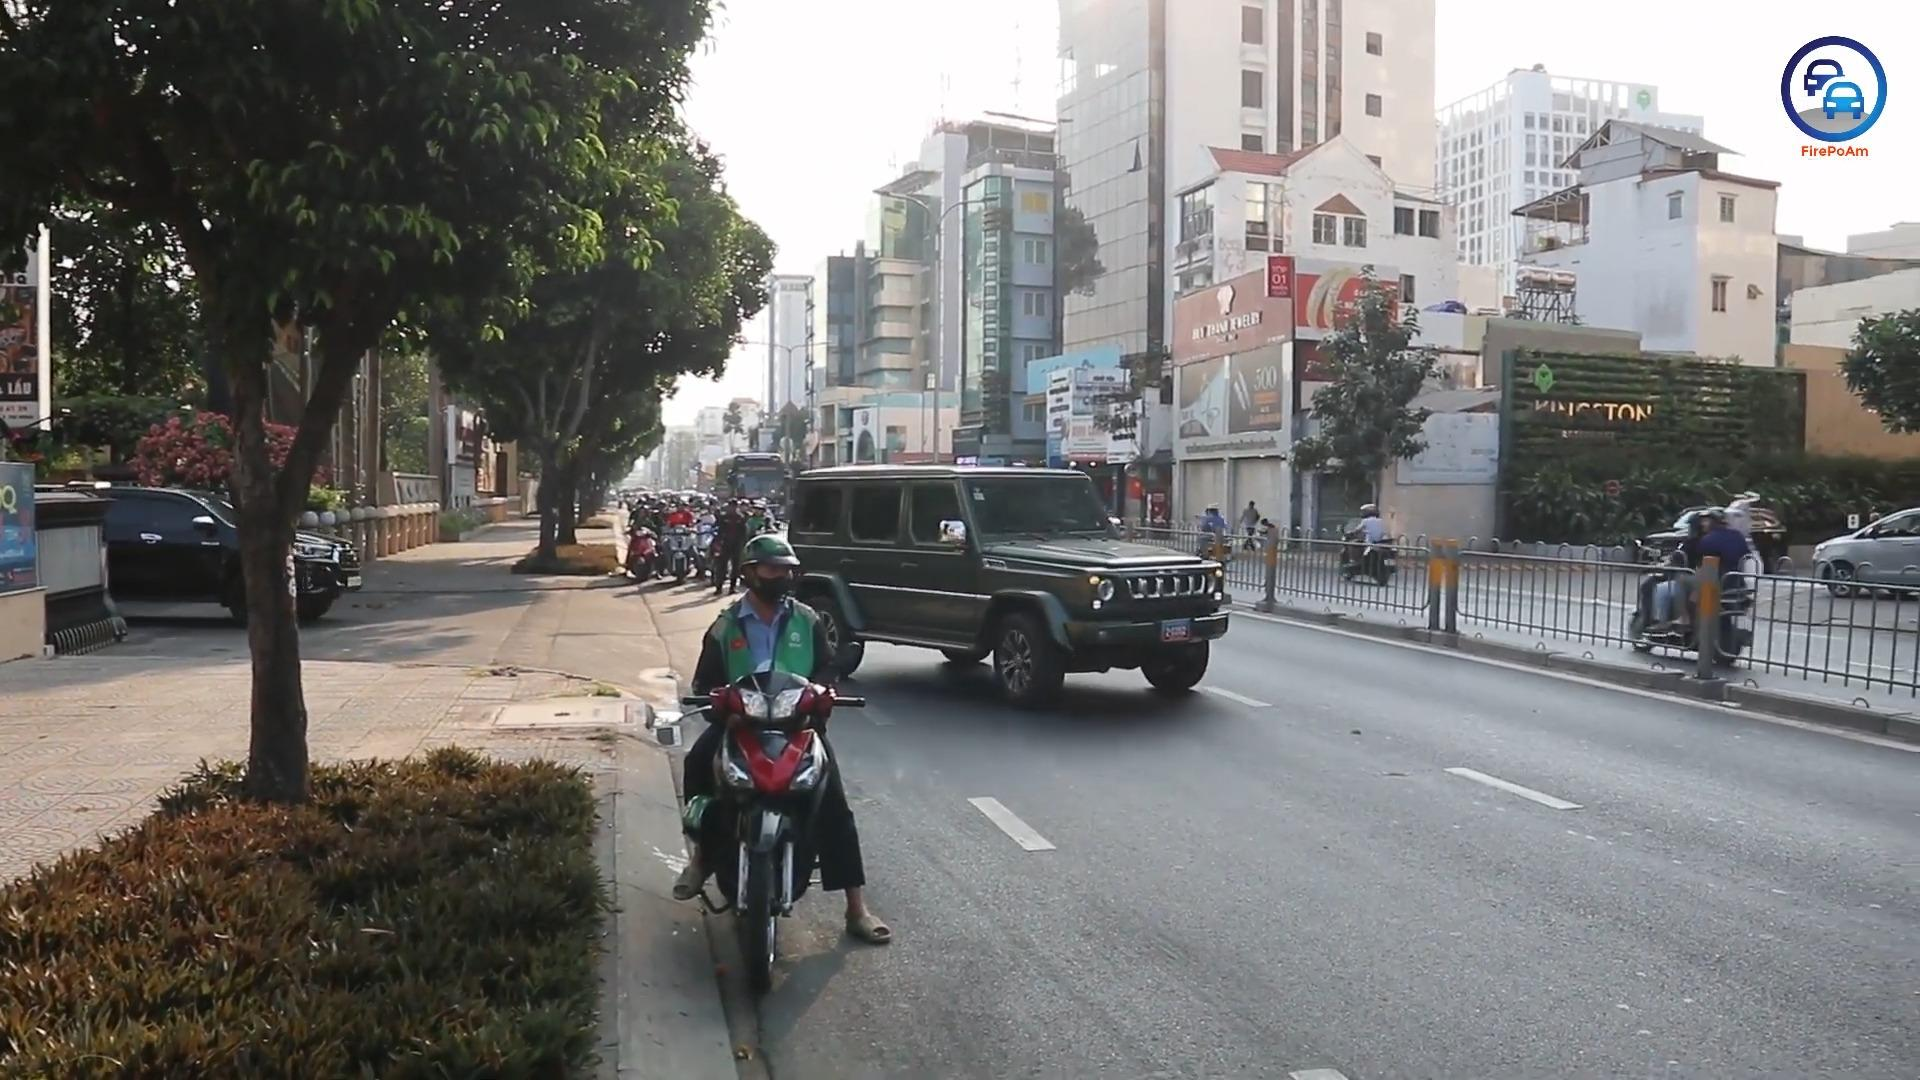bien_so: (1159, 618, 1192, 642)
